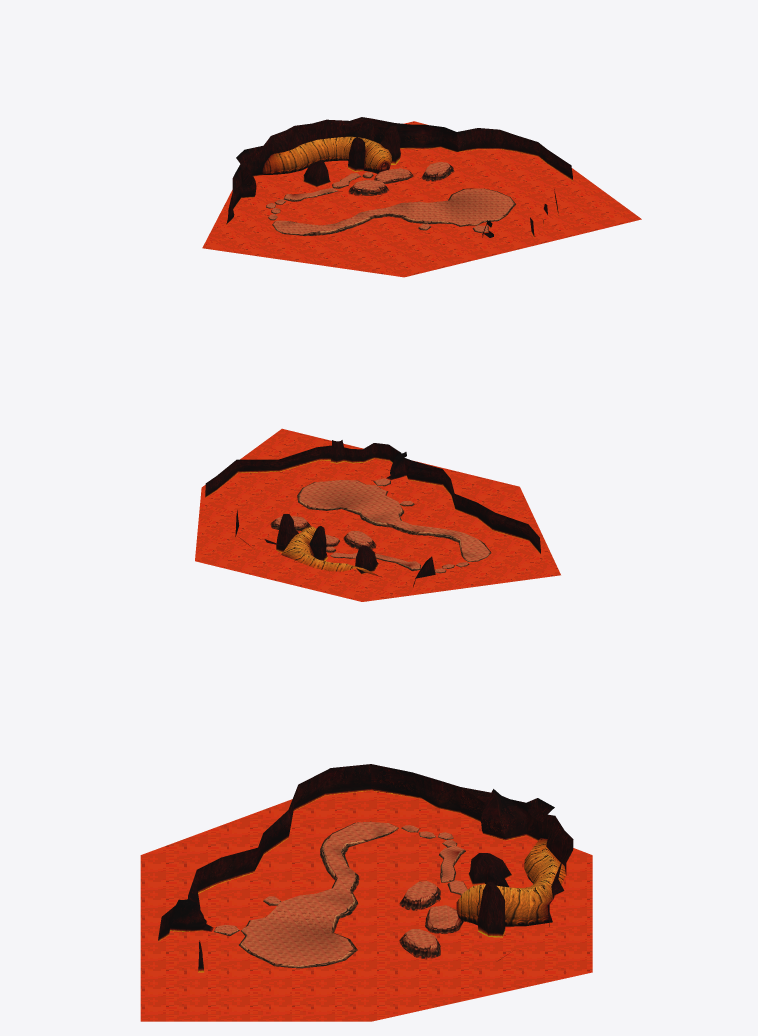
Rendered from AlienBossPlay.glb.
3 renders of one model, top to bottom at view 1: azimuth 30°, elevation 25°; view 2: azimuth 150°, elevation 25°; view 3: azimuth 270°, elevation 25°, orthographic. The views are drawn at different scales.
Parts seen in each view (by area): view 1: AlienBossPlay_10, AlienBossPlay_11, AlienBossPlay_5, AlienBossPlay_6, AlienBossPlay_4, AlienBossPlay_13, AlienBossPlay_9, AlienBossPlay_7, AlienBossPlay_8, AlienBossPlay_2, AlienBossPlay_3, AlienBossPlay_1; view 2: AlienBossPlay_10, AlienBossPlay_11, AlienBossPlay_6, AlienBossPlay_5, AlienBossPlay_9, AlienBossPlay_13, AlienBossPlay_4, AlienBossPlay_2, AlienBossPlay_3; view 3: AlienBossPlay_10, AlienBossPlay_11, AlienBossPlay_5, AlienBossPlay_6, AlienBossPlay_4, AlienBossPlay_9, AlienBossPlay_13, AlienBossPlay_7, AlienBossPlay_1, AlienBossPlay_2, AlienBossPlay_8.
Boxes of the visible parts, x1,y1,x2,y2 form: AlienBossPlay_10: [202, 121, 641, 277]; AlienBossPlay_11: [267, 162, 513, 233]; AlienBossPlay_5: [228, 125, 571, 231]; AlienBossPlay_6: [227, 131, 572, 237]; AlienBossPlay_4: [232, 117, 492, 227]; AlienBossPlay_13: [265, 136, 388, 162]; AlienBossPlay_9: [226, 143, 573, 237]; AlienBossPlay_7: [262, 146, 391, 172]; AlienBossPlay_8: [262, 155, 379, 174]; AlienBossPlay_2: [269, 175, 515, 235]; AlienBossPlay_3: [266, 174, 515, 235]; AlienBossPlay_1: [272, 173, 509, 233]; AlienBossPlay_10: [195, 428, 560, 601]; AlienBossPlay_11: [277, 478, 489, 571]; AlienBossPlay_6: [205, 448, 540, 584]; AlienBossPlay_5: [205, 440, 540, 575]; AlienBossPlay_9: [205, 455, 540, 586]; AlienBossPlay_13: [281, 526, 379, 576]; AlienBossPlay_4: [236, 440, 441, 563]; AlienBossPlay_2: [298, 482, 491, 573]; AlienBossPlay_3: [309, 480, 490, 573]; AlienBossPlay_10: [140, 790, 592, 1021]; AlienBossPlay_11: [215, 822, 467, 964]; AlienBossPlay_5: [160, 764, 572, 957]; AlienBossPlay_6: [158, 776, 549, 964]; AlienBossPlay_4: [169, 787, 573, 949]; AlienBossPlay_9: [158, 786, 540, 972]; AlienBossPlay_13: [458, 838, 565, 905]; AlienBossPlay_7: [458, 851, 550, 917]; AlienBossPlay_1: [214, 824, 466, 968]; AlienBossPlay_2: [214, 821, 462, 968]; AlienBossPlay_8: [458, 869, 552, 926].
Size of the model in its own units: 1608 by 121 by 1490.
Materials: 23 (23 with a texture image).
